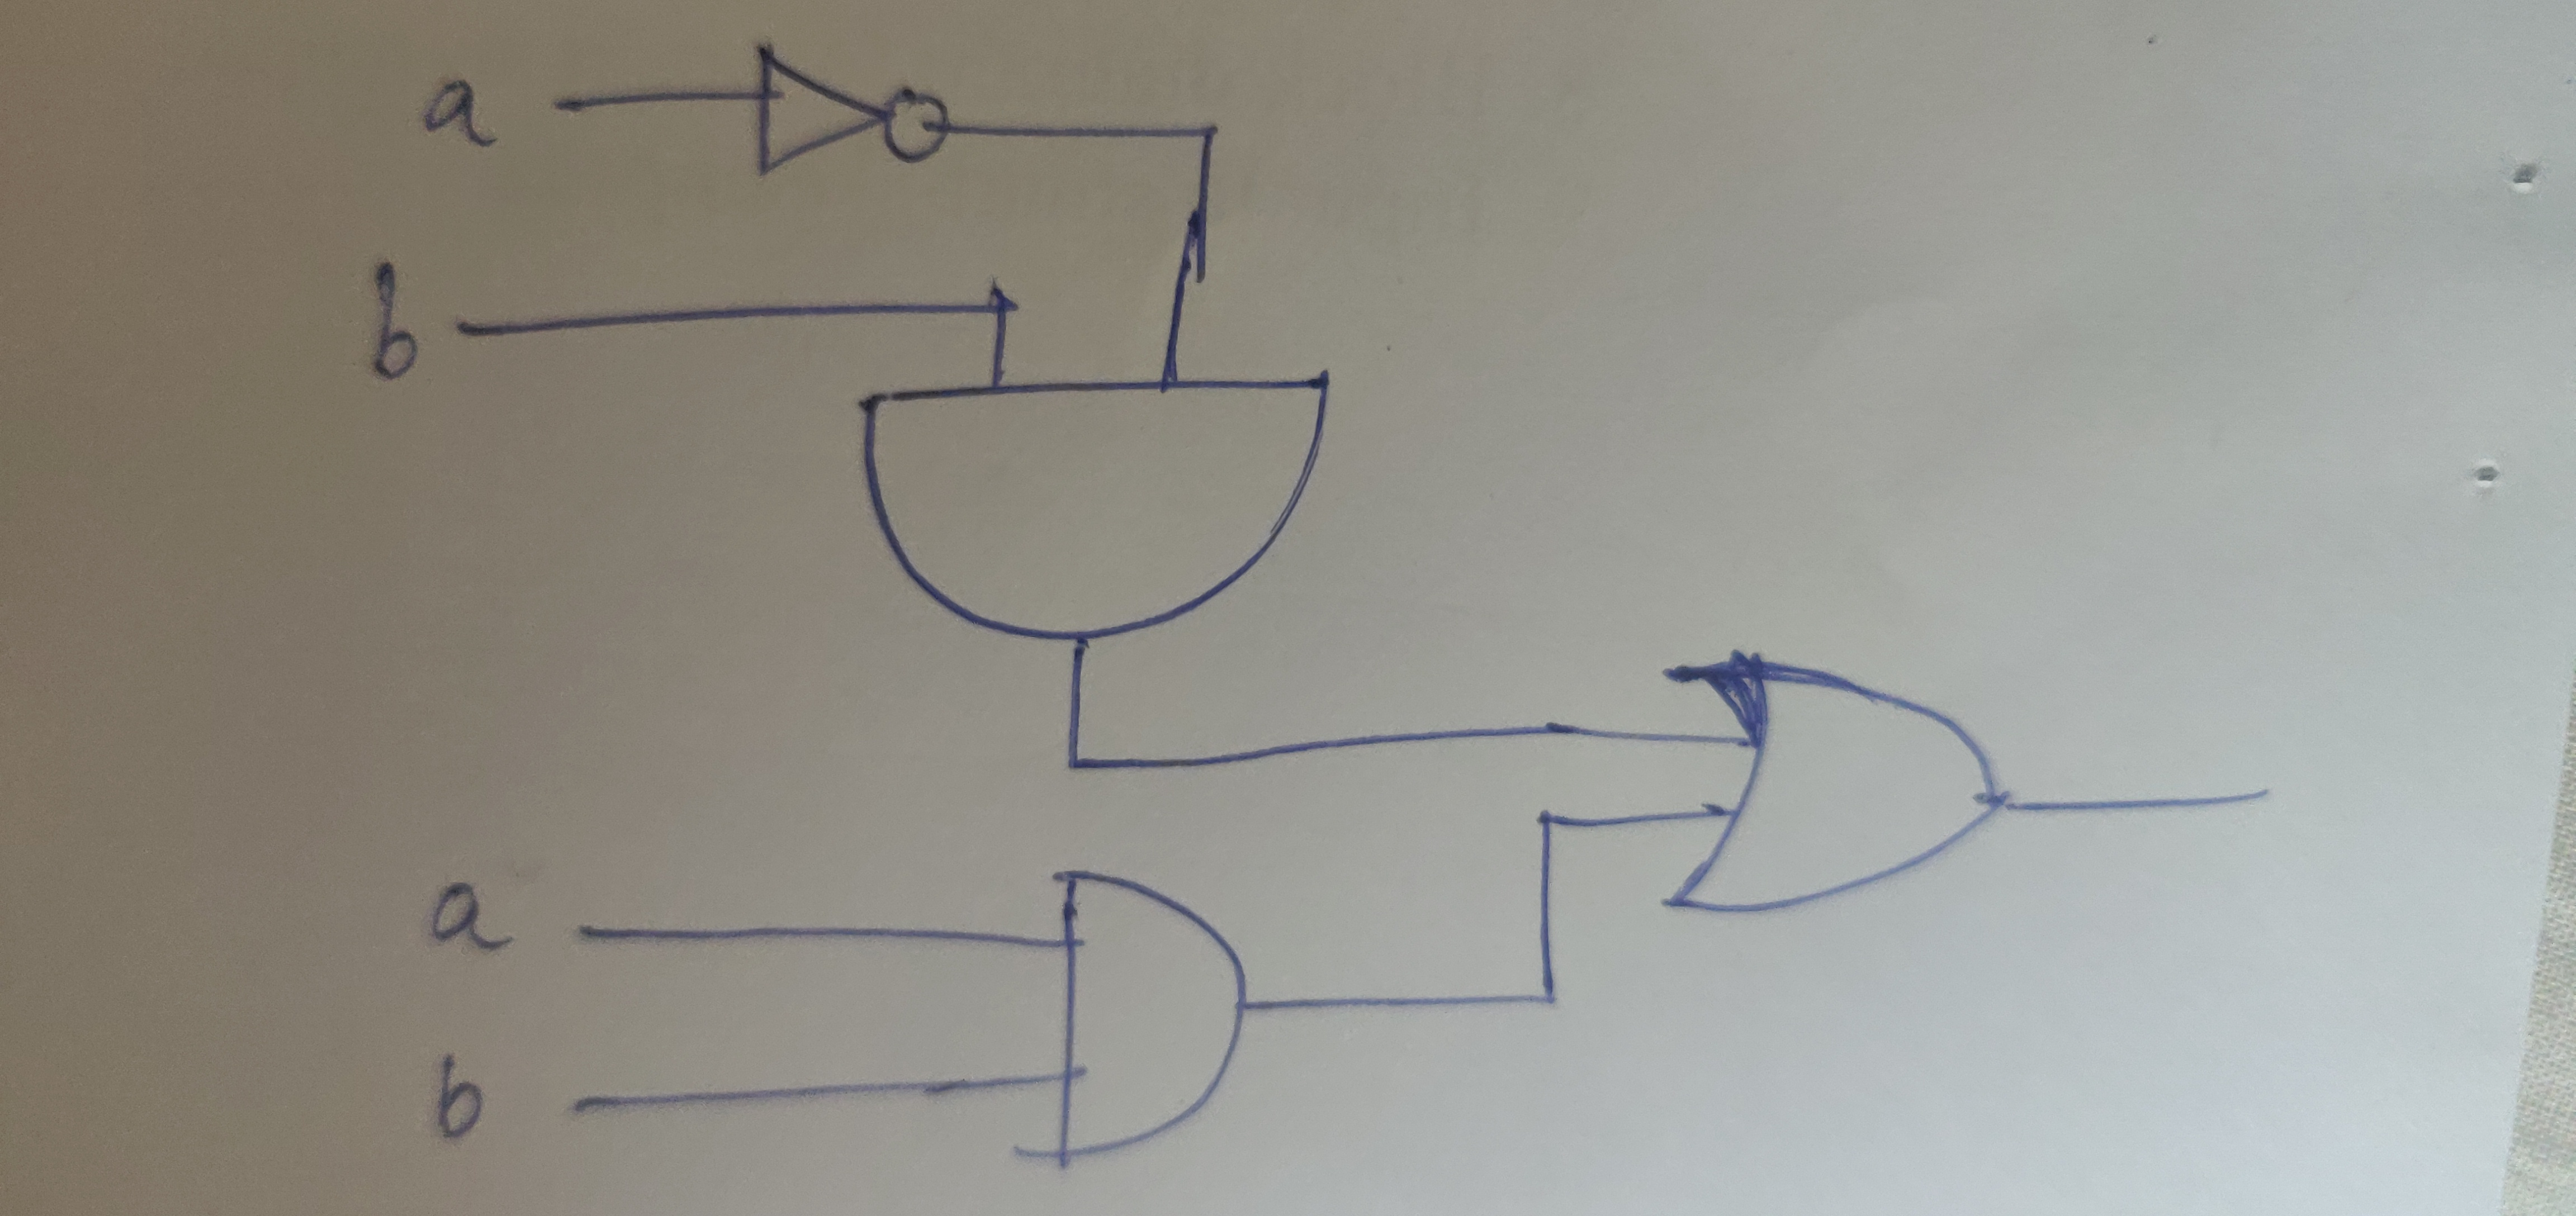and: (848, 362, 1354, 670), (966, 838, 1308, 1196)
not: (731, 20, 976, 214)
or: (1623, 631, 2027, 953)
